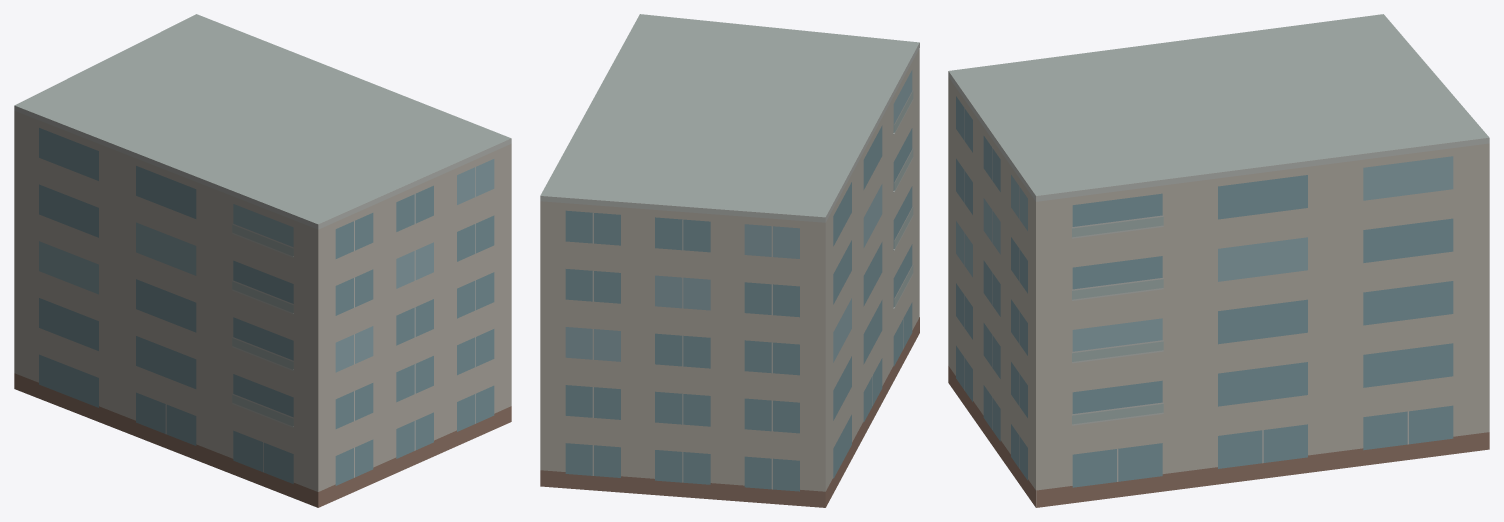
File: survey-upis-32739168.glb
The picture shows the model from 3 angles, left to right: view 1: azimuth 30°, elevation 25°; view 2: azimuth 150°, elevation 25°; view 3: azimuth 270°, elevation 25°; orthographic projection. The views are drawn at different scales.
Visible parts, largest first — view 1: survey-upis-32739168.tmp; view 2: survey-upis-32739168.tmp; view 3: survey-upis-32739168.tmp.
Part boxes in pixels (x1=…): survey-upis-32739168.tmp: x1=14, y1=14, x2=511, y2=507; survey-upis-32739168.tmp: x1=540, y1=14, x2=919, y2=507; survey-upis-32739168.tmp: x1=948, y1=14, x2=1489, y2=507.
Bounding box in the file's own units: 16.48 × 13.15 × 20.7.
